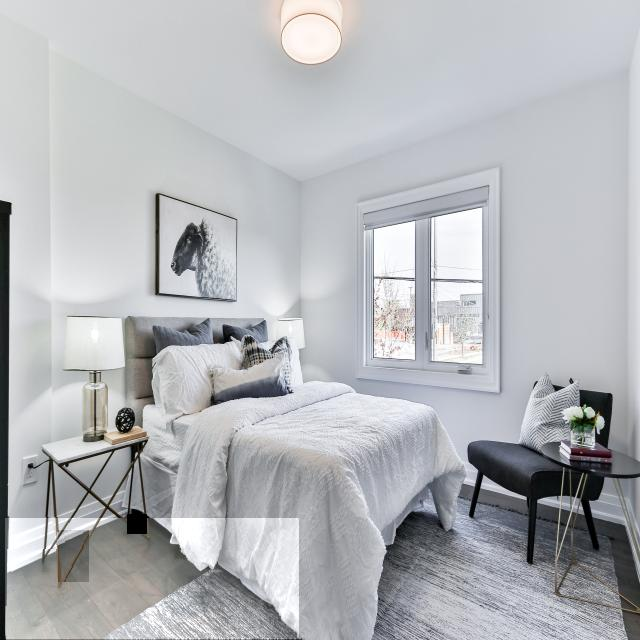floor: (6, 519, 299, 639), (58, 531, 89, 582), (128, 514, 147, 534), (123, 515, 127, 519)
